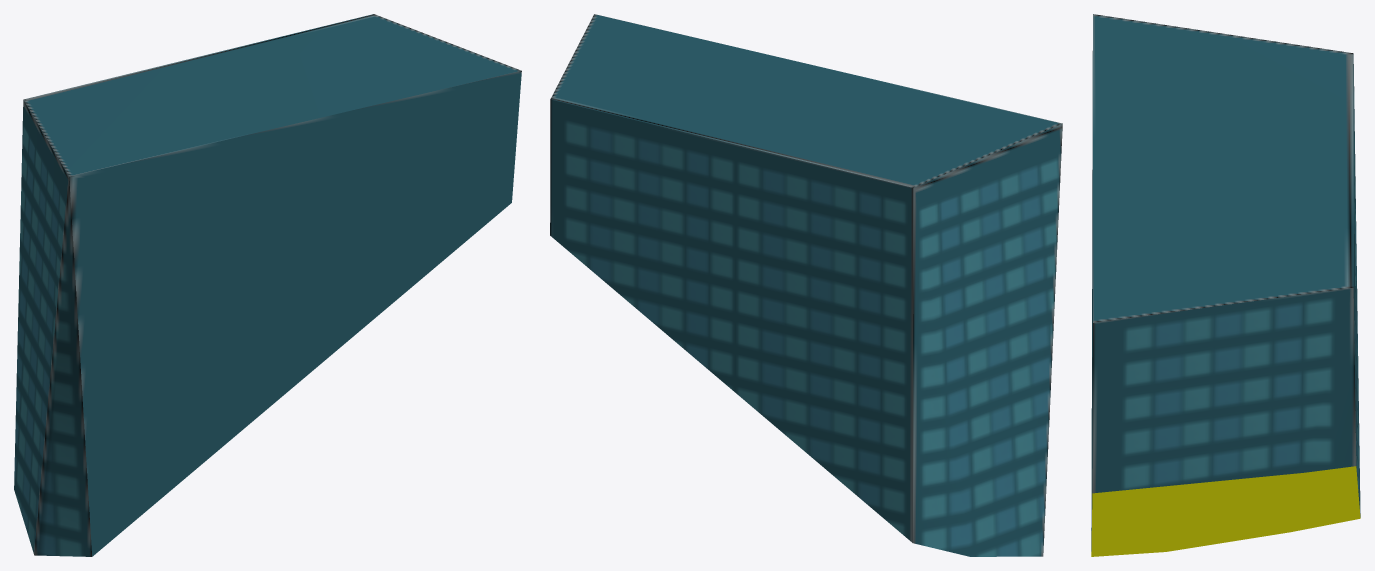
The model's file is boAShard4.fbx.
3 views of the same model, side by side, from view 1: azimuth 30°, elevation 25°; view 2: azimuth 150°, elevation 25°; view 3: azimuth 270°, elevation 25° (orthographic). The views are drawn at different scales.
Visible parts, largest first — view 1: shard61; view 2: shard61; view 3: shard61.
Boxes of the visible parts, bbox=[...] form: shard61: bbox=[14, 14, 521, 556]; shard61: bbox=[550, 14, 1062, 556]; shard61: bbox=[1091, 14, 1360, 556].
Bounding box in the file's own units: 0.1204 × 0.0991 × 0.0445.
Materials: 2 (1 with a texture image).
